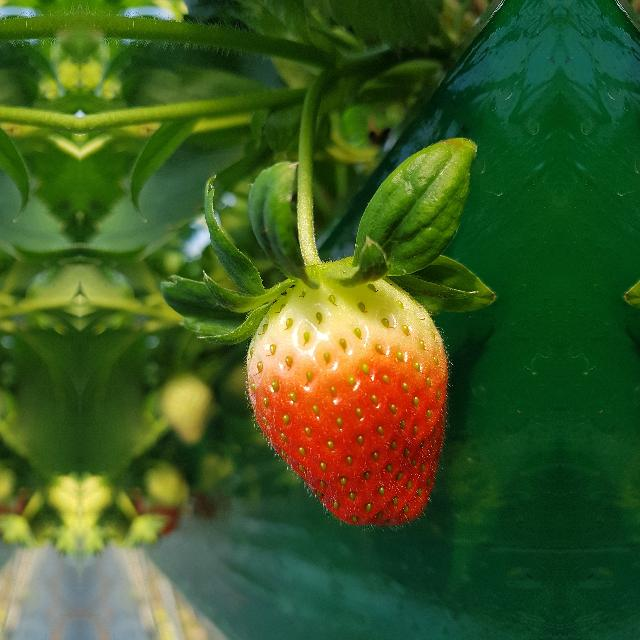Health_75: (244, 278, 450, 530)
